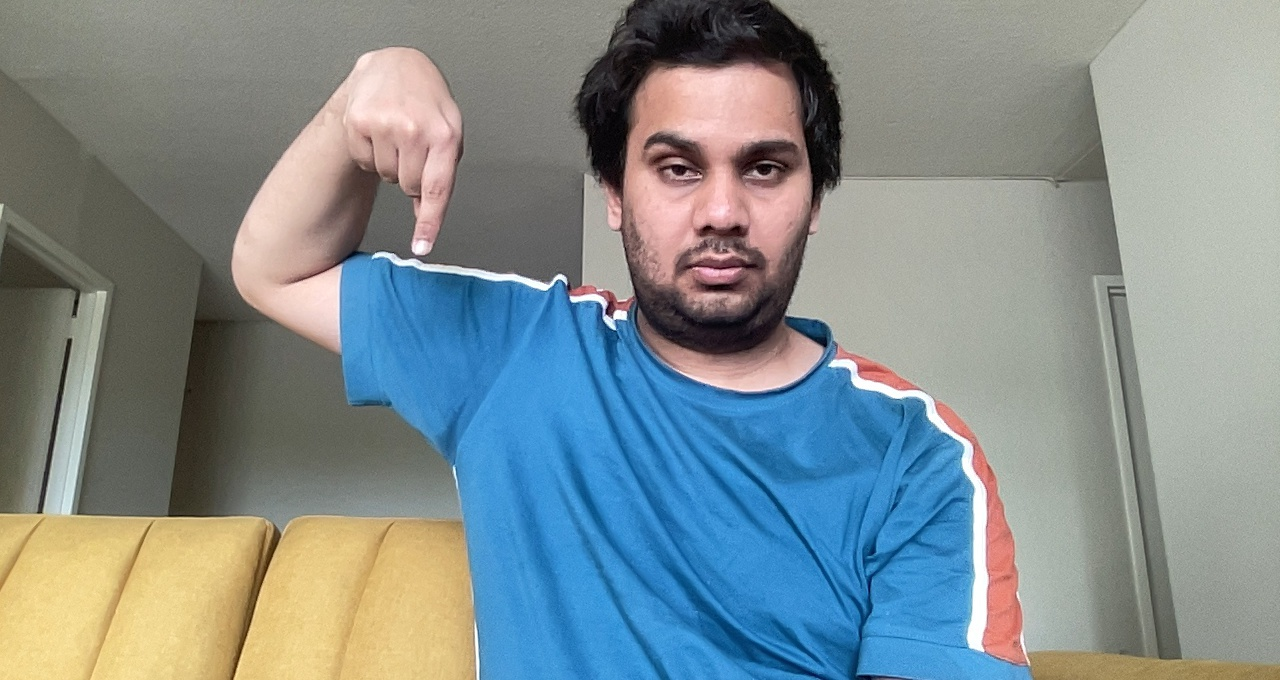fingerdown: (337, 39, 474, 262)
